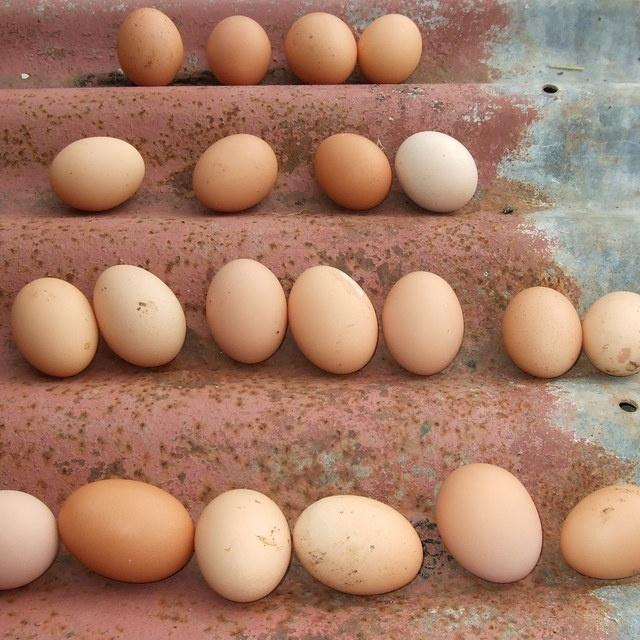egg: (57, 478, 194, 583), (292, 493, 423, 595), (435, 462, 542, 583), (194, 487, 291, 602), (287, 264, 378, 374), (92, 263, 186, 367), (10, 276, 98, 377), (205, 257, 287, 364), (382, 270, 464, 375), (559, 483, 640, 579), (501, 285, 582, 378), (49, 135, 145, 211), (394, 129, 478, 212), (192, 132, 278, 212), (314, 132, 392, 210), (0, 488, 58, 590), (116, 6, 183, 85), (284, 11, 357, 83), (582, 290, 640, 376), (357, 12, 422, 83), (206, 14, 271, 84)
